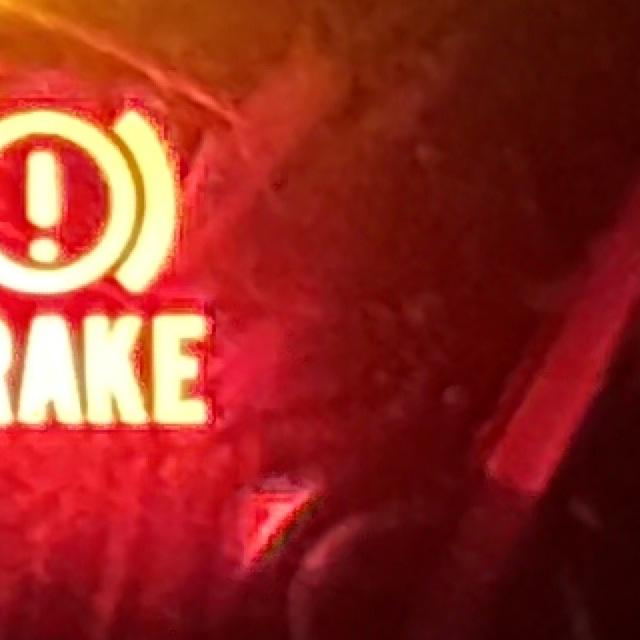Break System Issue: (1, 107, 212, 428)
